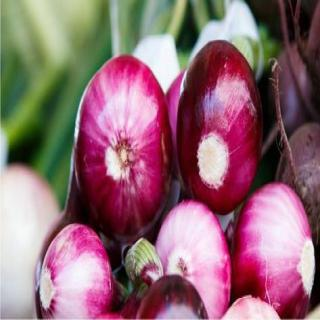Bawang Merah: (73, 53, 176, 241), (176, 39, 266, 217)
